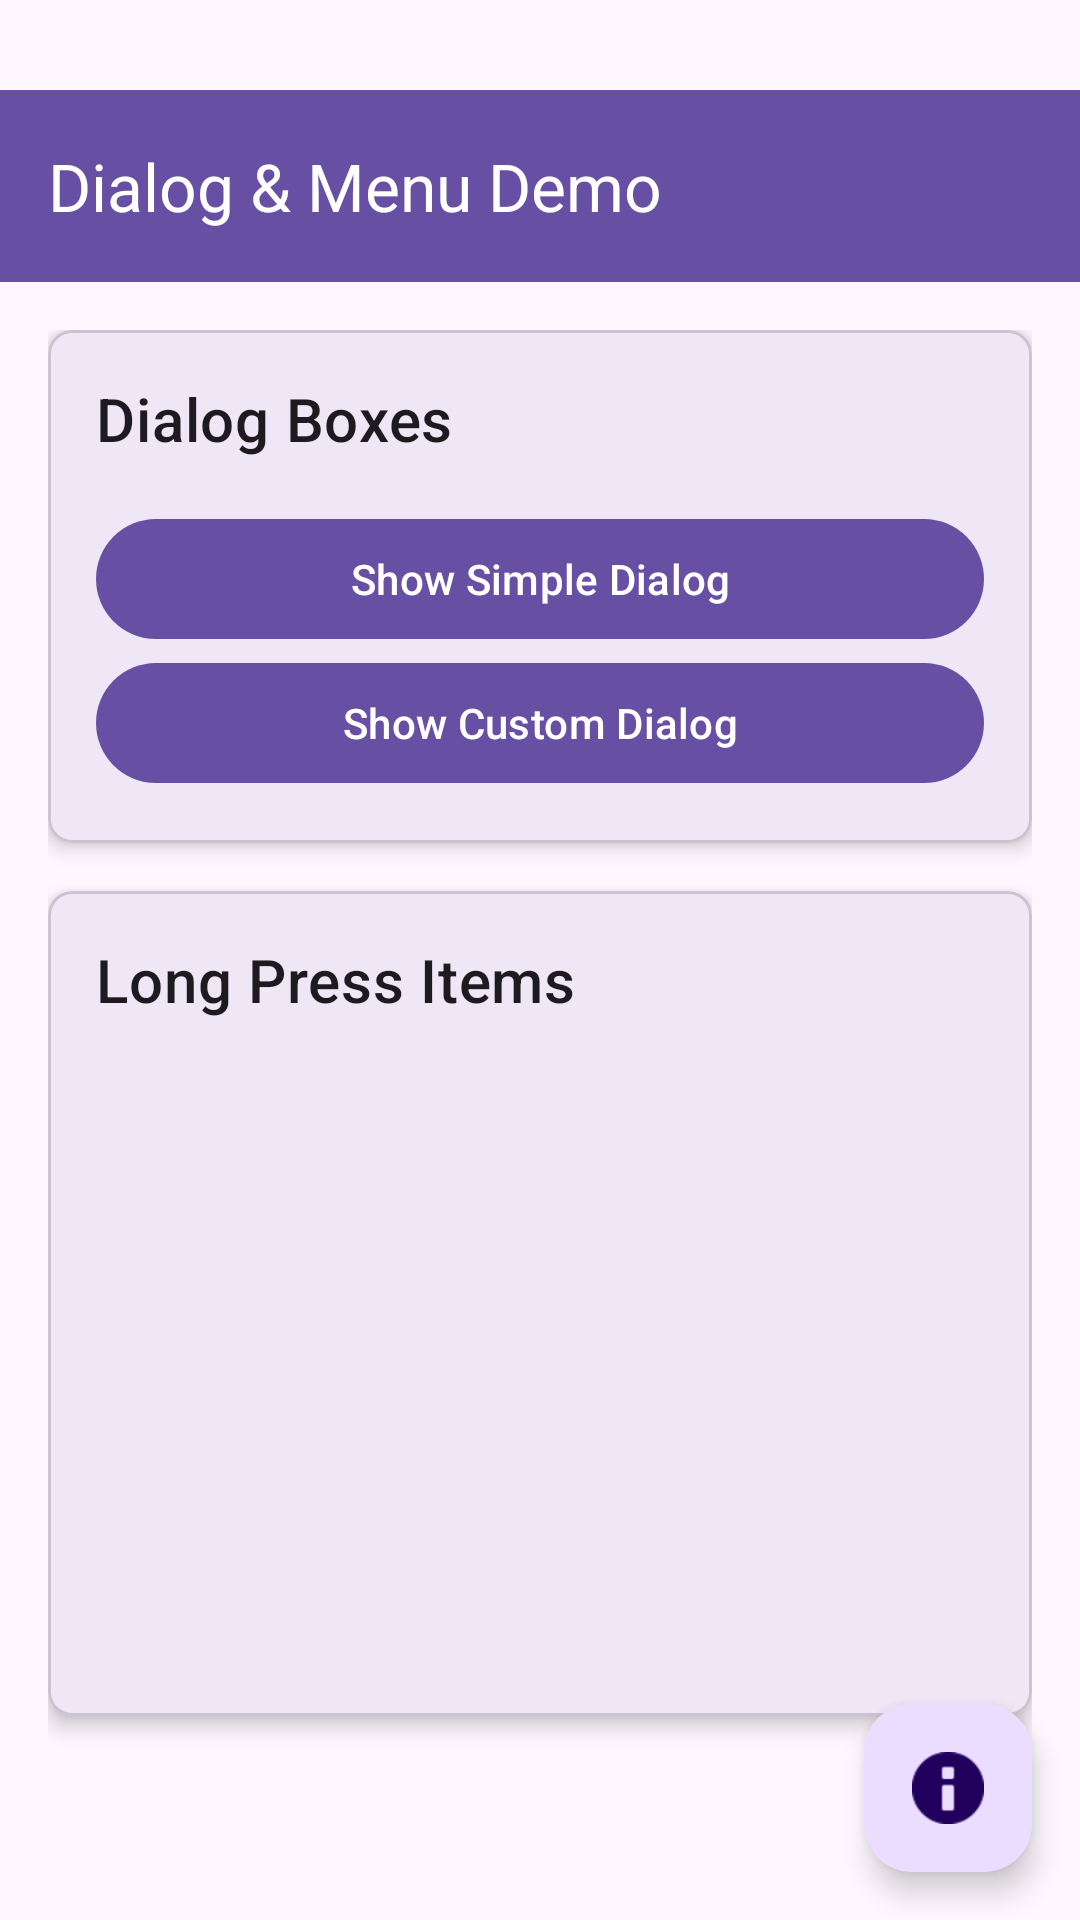

Screen size 1080 × 1920. Icon name, then its center in pixels as point (x, y):
info: point (948, 1788)
